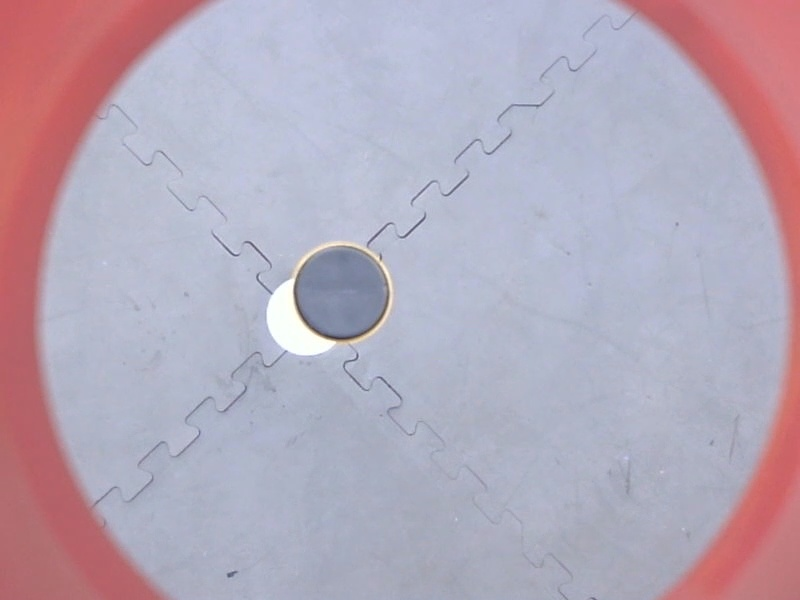tip: (285, 237, 401, 347)
